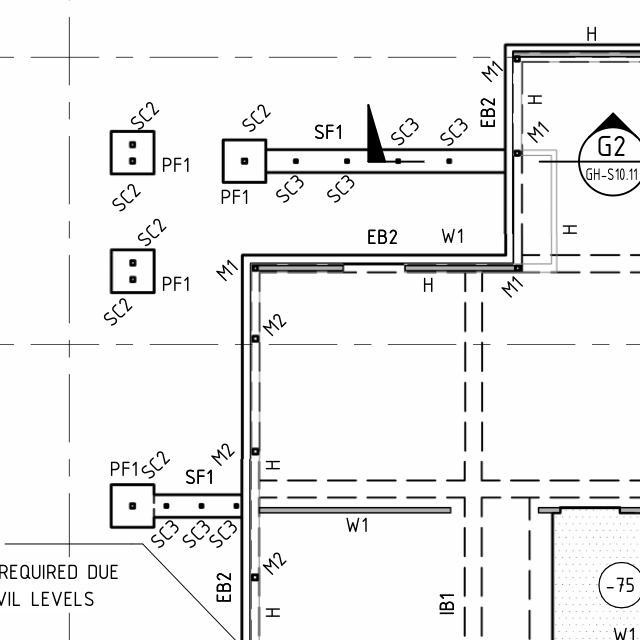EB2: (353, 219, 407, 250), (473, 95, 505, 130), (211, 569, 236, 604)
IB1: (425, 587, 458, 617)
M1: (488, 269, 526, 304), (473, 59, 502, 81), (525, 117, 552, 140), (216, 254, 238, 280)
M2: (255, 312, 298, 335), (205, 439, 240, 461), (261, 547, 286, 572)
PF1: (153, 267, 197, 304), (150, 150, 197, 173), (215, 186, 255, 207), (100, 457, 138, 476)
SC2: (231, 87, 276, 136), (128, 93, 166, 131), (134, 211, 174, 244), (136, 442, 171, 478), (96, 296, 133, 325), (112, 180, 145, 206)
SC3: (385, 106, 423, 140), (271, 167, 307, 199), (326, 173, 361, 201), (207, 516, 238, 547), (436, 115, 467, 144), (187, 517, 212, 548), (153, 520, 178, 547)
SF1: (314, 112, 349, 143), (181, 462, 214, 487)
W1: (435, 219, 476, 250)
